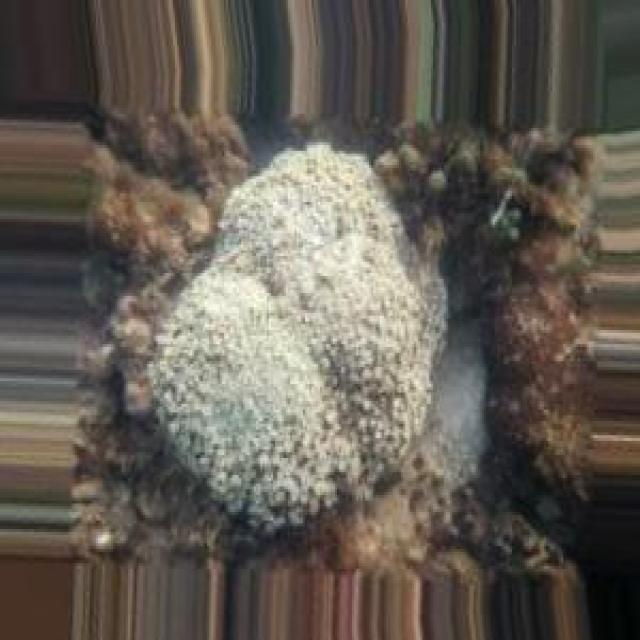Bleached: (148, 142, 450, 538)
